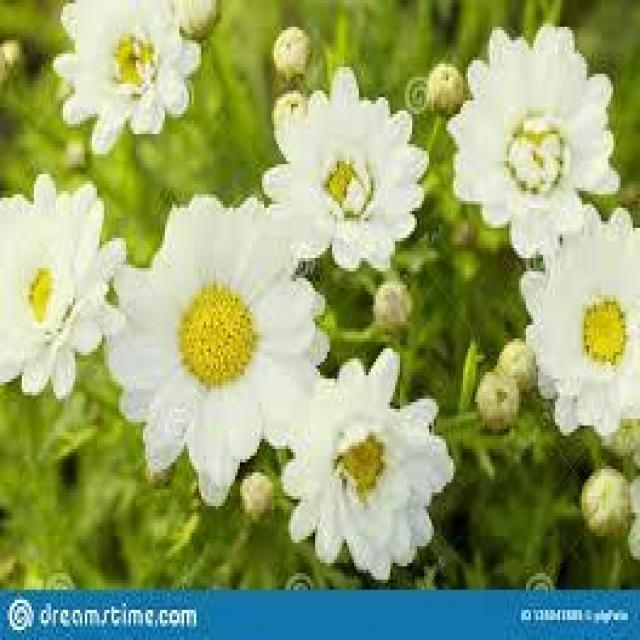organic waste: (102, 199, 325, 481), (268, 348, 452, 580), (448, 23, 611, 262), (257, 69, 424, 276), (526, 200, 638, 430), (1, 171, 120, 382), (54, 3, 205, 161)
